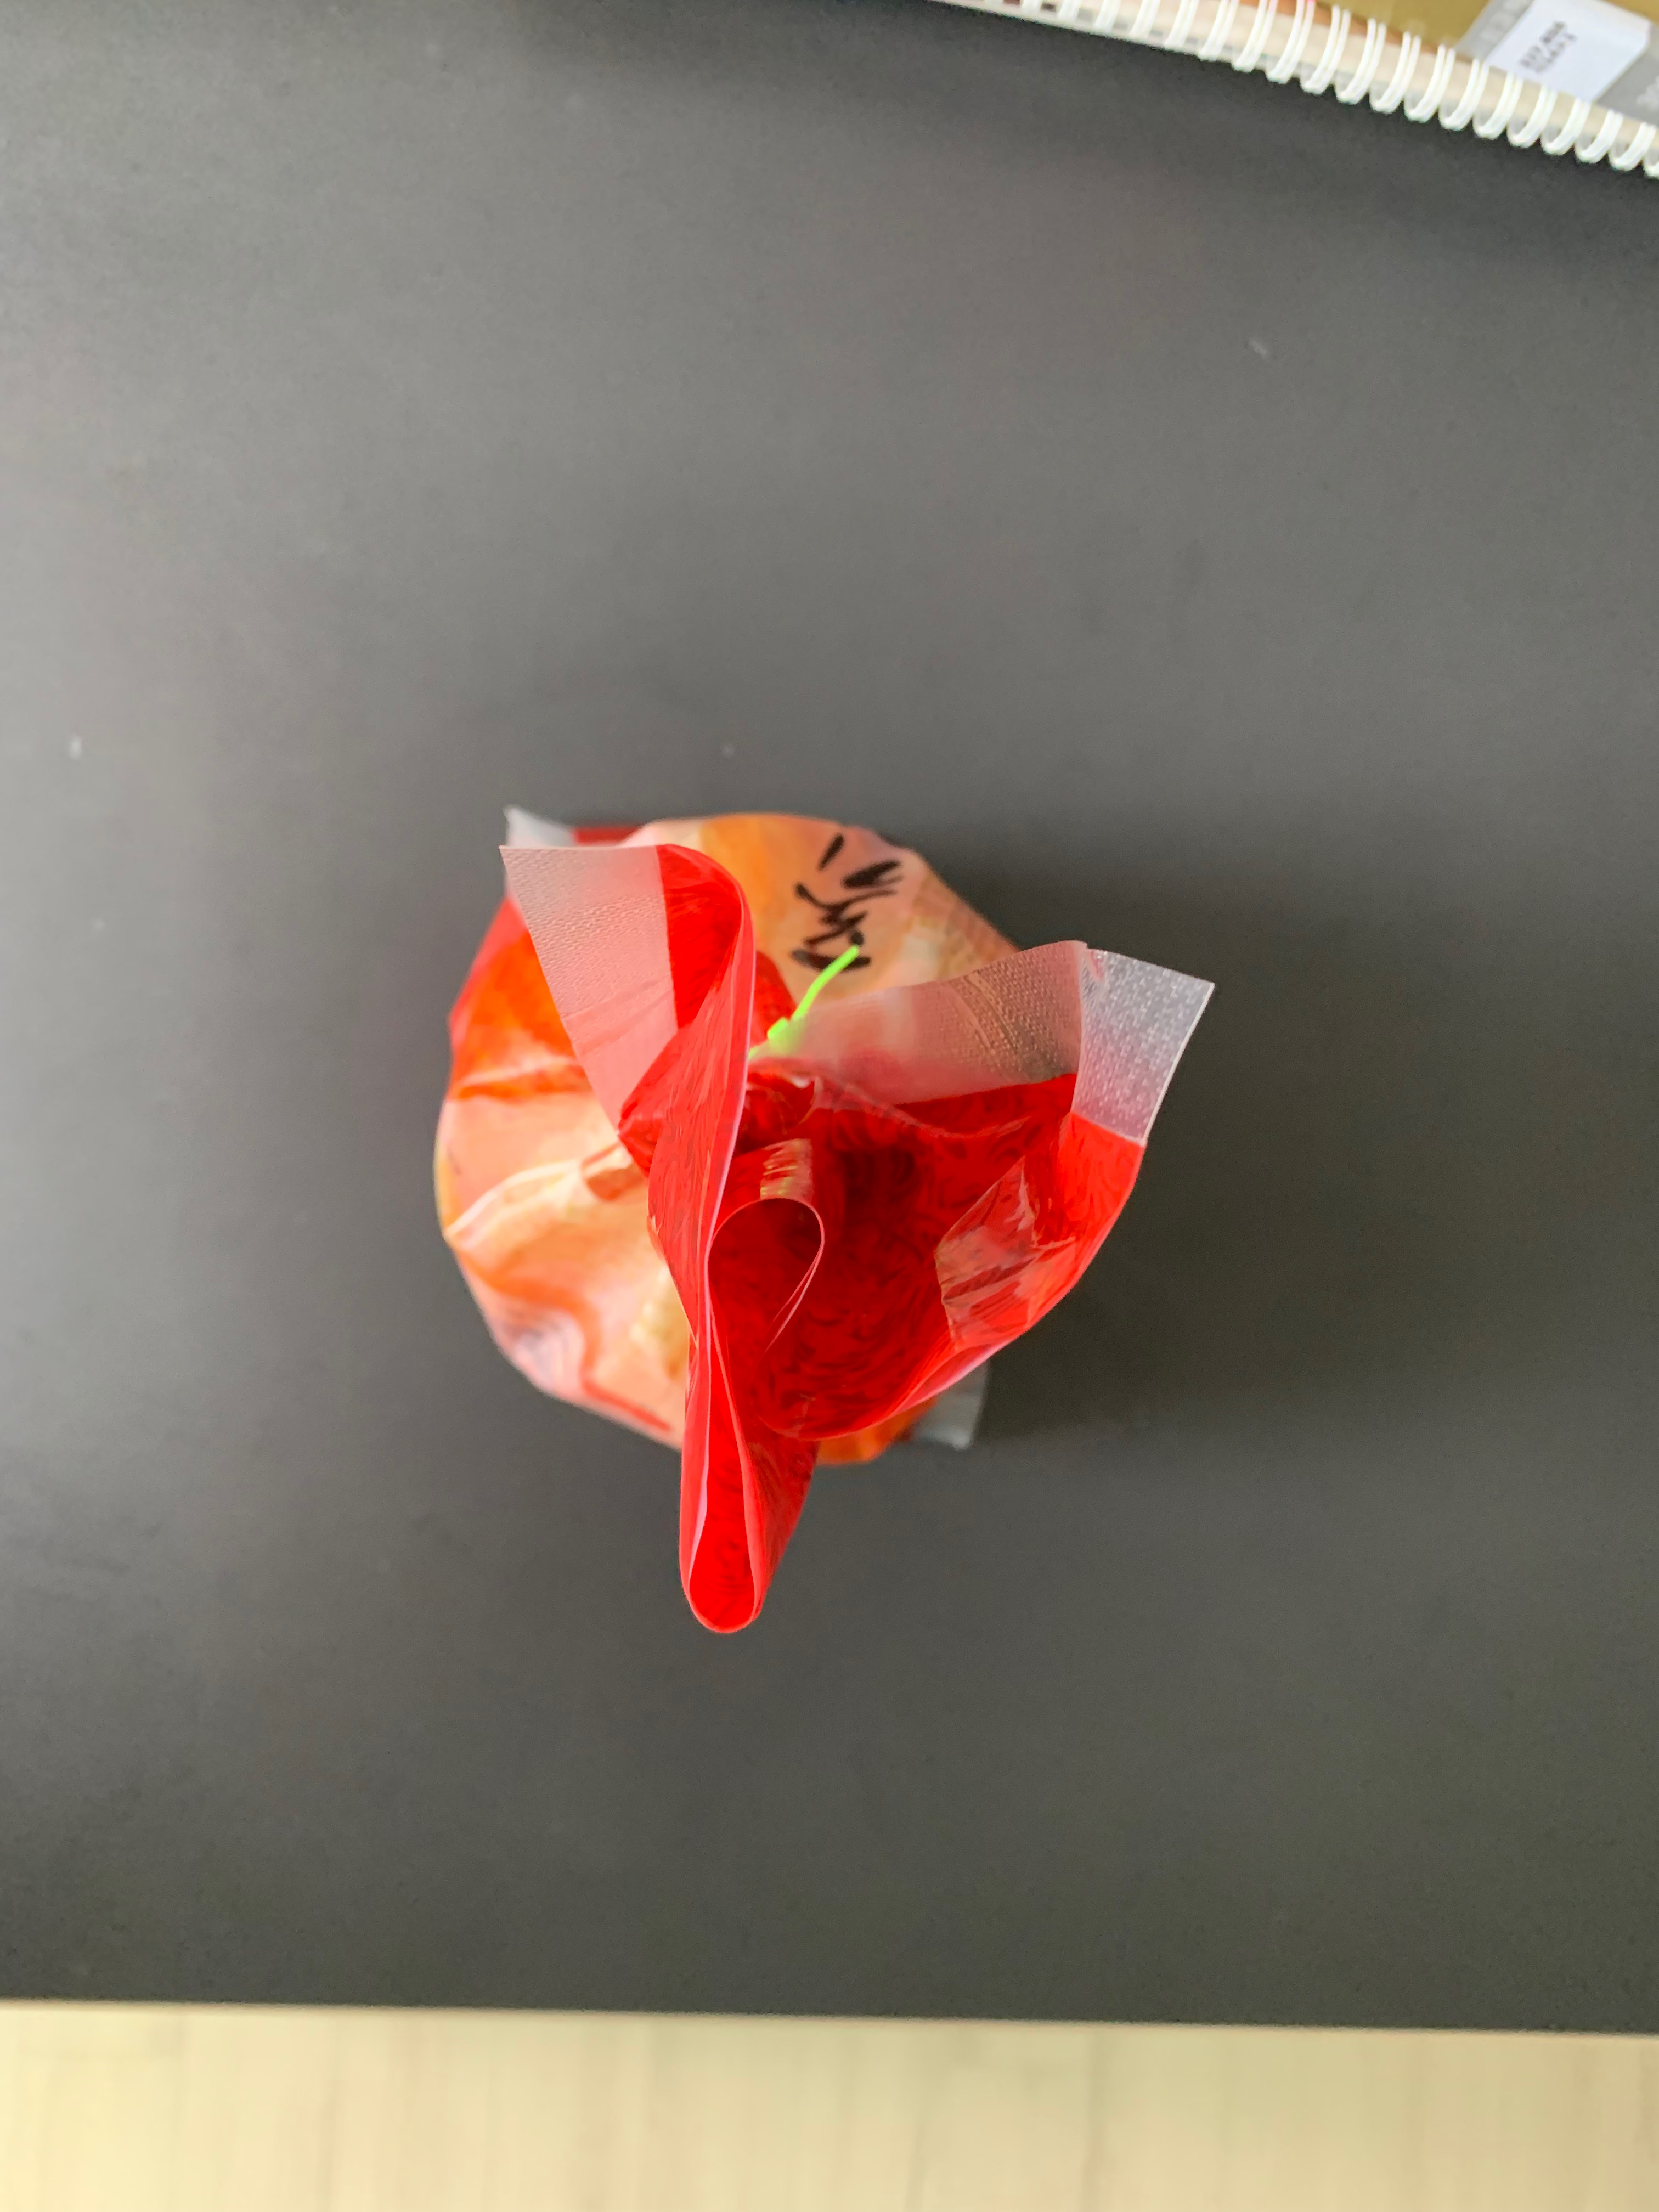kimchi: (432, 806, 1136, 1635)
